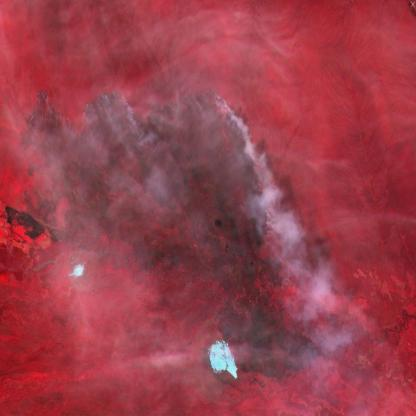fire: (0, 84, 287, 296)
